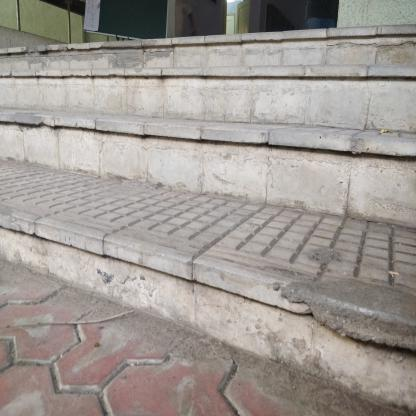stairs: (2, 65, 416, 364)
